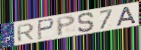7: (100, 8, 114, 30)
A: (116, 5, 138, 27)
P: (56, 14, 77, 37), (37, 18, 56, 41)
R: (16, 23, 35, 43)
S: (77, 11, 96, 33)
